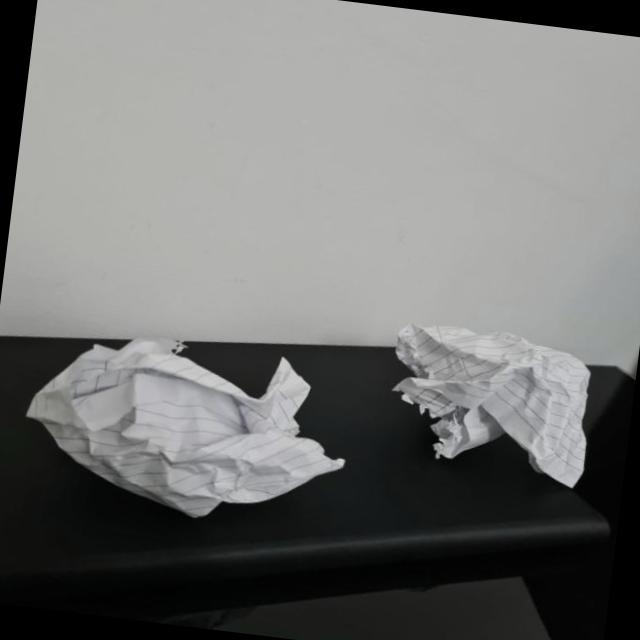cardboard paper: (26, 337, 341, 514), (394, 323, 587, 484)
